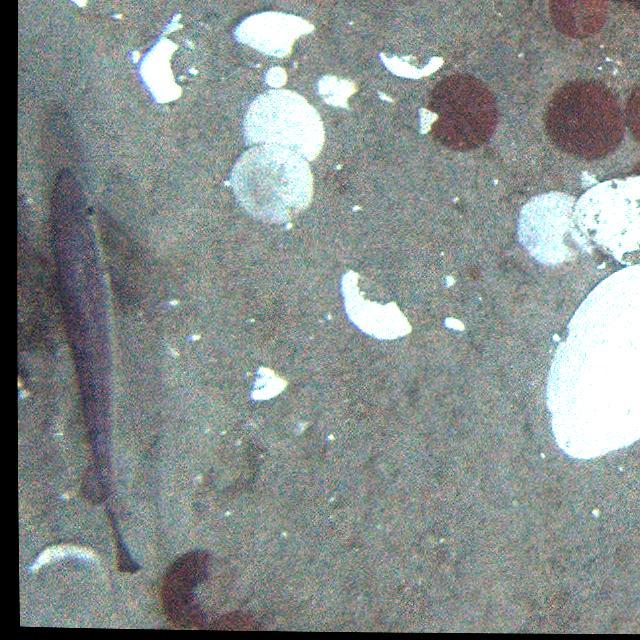roundfish: (42, 153, 164, 583)
